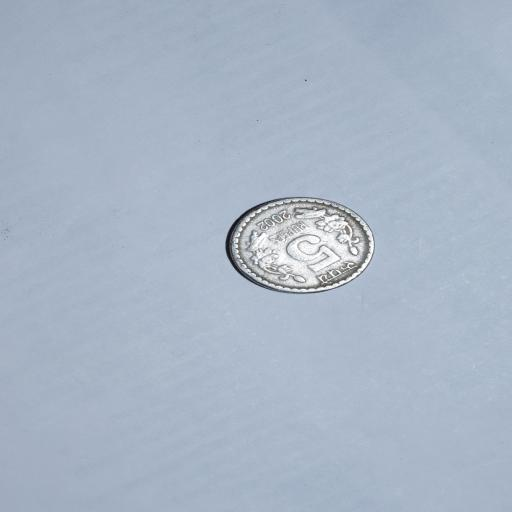rupee5: (220, 196, 376, 296)
